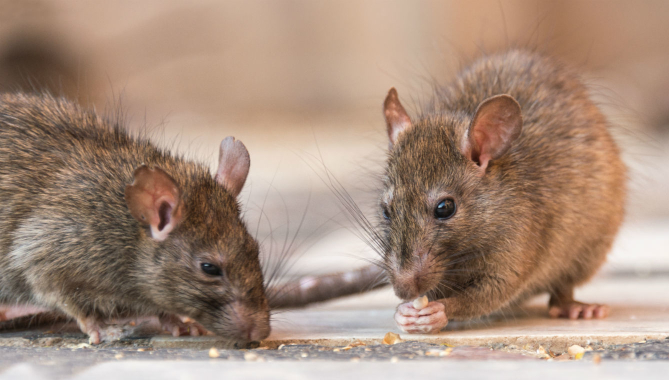rat: (350, 32, 649, 340), (1, 72, 299, 363)
